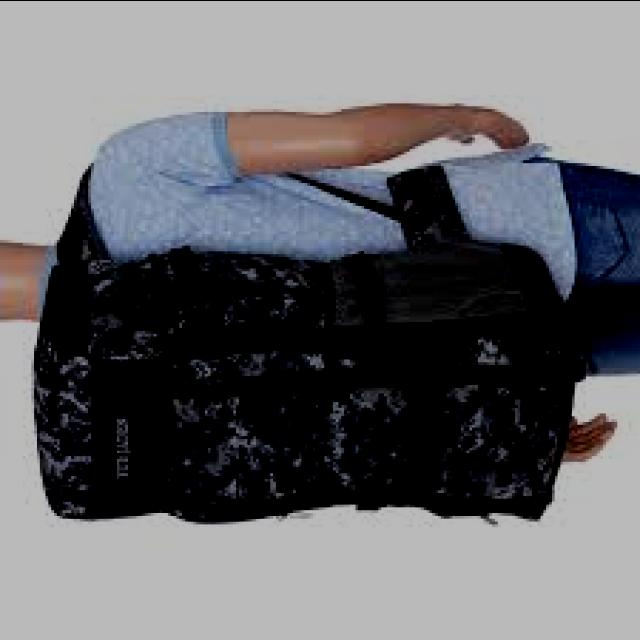backpack: (29, 163, 587, 527)
